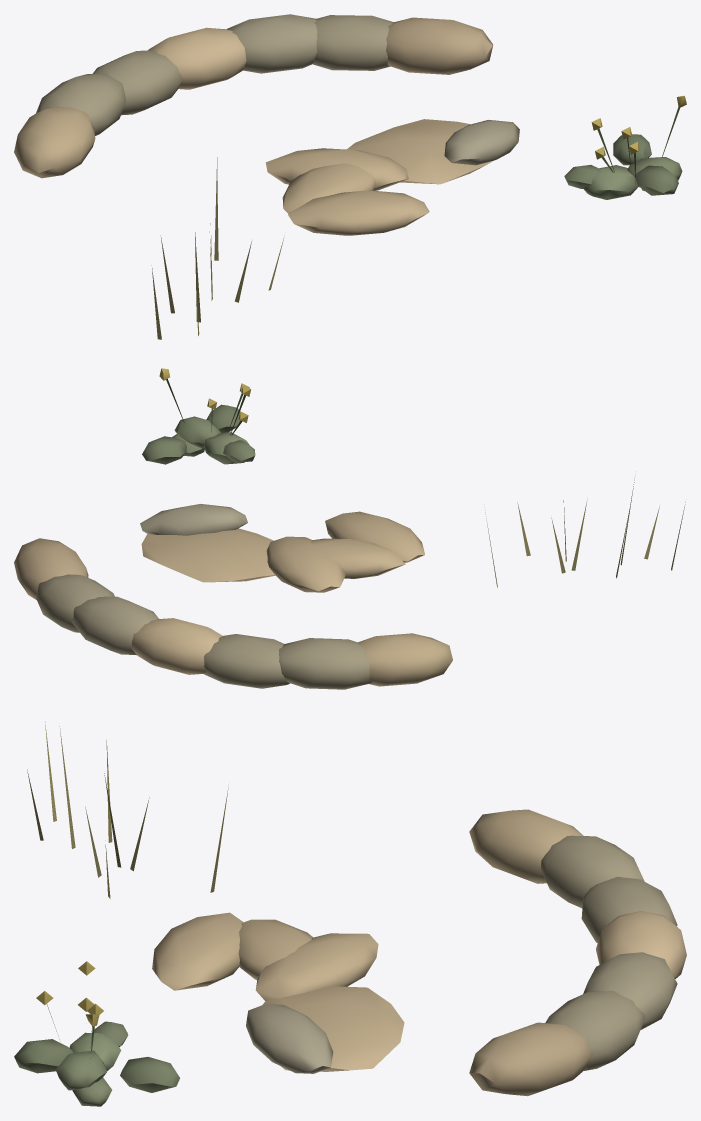
File: sandbags_c_lod1.glb
The picture shows the model from 3 angles, top to bottom: view 1: azimuth 30°, elevation 25°; view 2: azimuth 150°, elevation 25°; view 3: azimuth 270°, elevation 25°; orthographic projection. The views are drawn at different scales.
Visible parts, largest first — view 1: Surface.001; view 2: Surface.001; view 3: Surface.001.
Boxes of the visible parts, x1,y1,x2,y2 form: Surface.001: [14, 14, 686, 339]; Surface.001: [14, 368, 685, 689]; Surface.001: [14, 721, 686, 1106].
Bounding box in the file's own units: 6.13 × 1.12 × 5.45.
